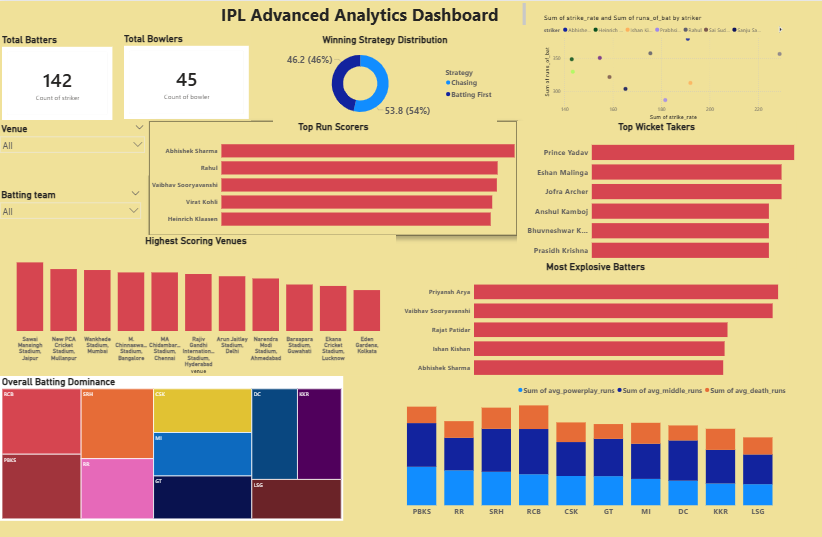

What the dashboard file says about the page in this screenshot:
{"tool":"powerbi","page":{"name":"Page 1","canvas":[3000,2000],"ordinal":0},"visuals":[{"type":"textbox","box":[498,0,832,66],"z":2000},{"type":"cardVisual","title":"Total Batters","fields":{"Data":["CountNonNull(final_batter_analysis.striker)"]},"box":[10,82,286,220],"z":3000},{"type":"cardVisual","title":"Total Bowlers","fields":{"Data":["CountNonNull(bowling_analysis.bowler)"]},"box":[316,80,322,220],"z":4000},{"type":"clusteredBarChart","title":"Top Run Scorers","fields":{"Category":["final_batter_analysis.striker"],"Y":["Sum(final_batter_analysis.runs_of_bat)"]},"box":[382,300,920,286],"z":5000},{"type":"clusteredBarChart","title":"Top Wicket Takers","fields":{"Category":["bowling_analysis.bowler"],"Y":["Sum(bowling_analysis.wickets)"]},"box":[1302,300,698,368],"z":6000},{"type":"clusteredColumnChart","title":"Highest Scoring Venues","fields":{"Category":["venue_average_scores.venue"],"Y":["Sum(venue_average_scores.avg_runs)"]},"box":[0,586,1000,352],"z":7000},{"type":"donutChart","title":"Winning Strategy Distribution","fields":{"Category":["match_strategy_analysis.Strategy"],"Y":["Sum(match_strategy_analysis.Win Percentage)"]},"box":[692,82,560,220],"z":8000},{"type":"columnChart","fields":{"Category":["phase_analysis.batting_team"],"Y":["Sum(phase_analysis.avg_powerplay_runs)","Sum(phase_analysis.avg_middle_runs)","Sum(phase_analysis.avg_death_runs)"]},"box":[972.5,967.5,1000,350],"z":9000},{"type":"scatterChart","fields":{"X":["Sum(final_batter_analysis.strike_rate)"],"Y":["Sum(final_batter_analysis.runs_of_bat)"],"Series":["final_batter_analysis.striker"]},"box":[1366,32,616,270],"z":10000},{"type":"slicer","fields":{"Values":["phase_analysis.batting_team"]},"box":[0,466,372,120],"z":11000},{"type":"slicer","fields":{"Values":["venue_average_scores.venue"]},"box":[0,300,382,136],"z":12000},{"type":"clusteredBarChart","title":"Most Explosive Batters","fields":{"Category":["final_batter_analysis.striker"],"Y":["Sum(final_batter_analysis.strike_rate)"]},"box":[1016,650,968,310],"z":13000},{"type":"treemap","title":"Overall Batting Dominance","fields":{"Group":["phase_analysis.batting_team"],"Values":["Sum(phase_analysis.total_phase_runs)"]},"box":[10,960,857.5,362.5],"z":14000}]}

Visuals, with their boxes in screenshot pixels (x1, y1, x2, y2), scaled from the page's 3000x2000 canvas onto the 822x537 screenshot:
textbox: (136,0,364,18)
"Total Batters" cardVisual: (3,22,81,81)
"Total Bowlers" cardVisual: (87,21,175,81)
"Top Run Scorers" clusteredBarChart: (105,81,357,157)
"Top Wicket Takers" clusteredBarChart: (357,81,548,179)
"Highest Scoring Venues" clusteredColumnChart: (0,157,274,252)
"Winning Strategy Distribution" donutChart: (190,22,343,81)
columnChart - phase_analysis.batting_team x Sum(phase_analysis.avg_powerplay_runs): (266,260,540,354)
scatterChart - Sum(final_batter_analysis.strike_rate) x Sum(final_batter_analysis.runs_of_bat): (374,9,543,81)
slicer - phase_analysis.batting_team: (0,125,102,157)
slicer - venue_average_scores.venue: (0,81,105,117)
"Most Explosive Batters" clusteredBarChart: (278,175,544,258)
"Overall Batting Dominance" treemap: (3,258,238,355)
